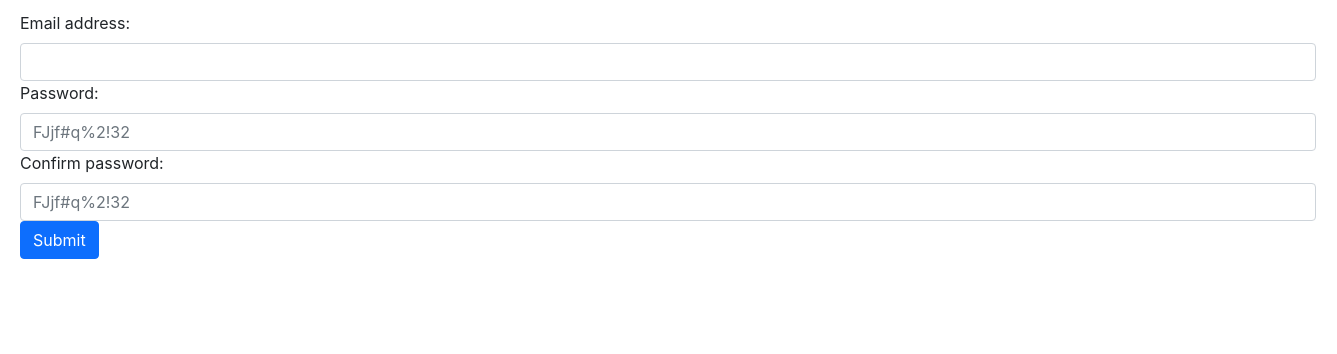
Test case: Error handling › Should show email error message on invalid email
The image size is (1337, 354).
In the field labelled "Email address:": x=668, y=62 20,43 -> 1316,81, type "azaz22155gmail.com"
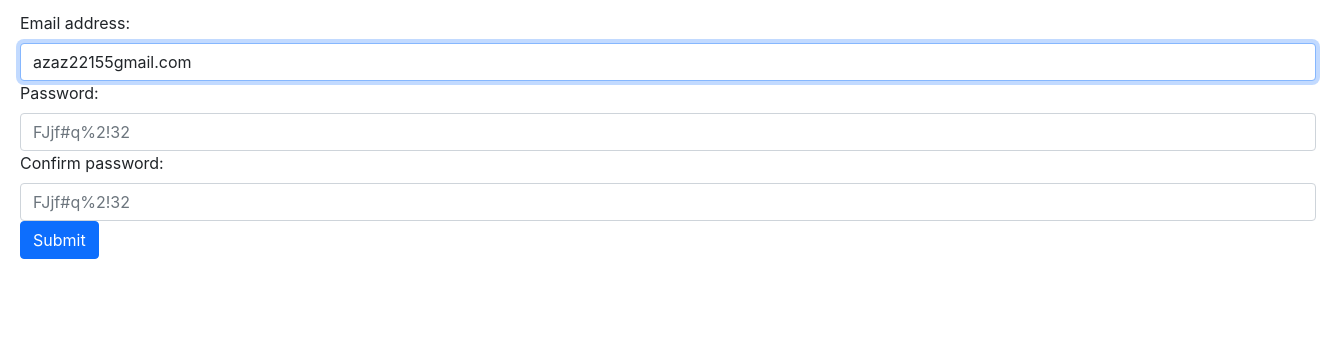
Click the button "Submit": x=59, y=240 20,221 -> 99,259
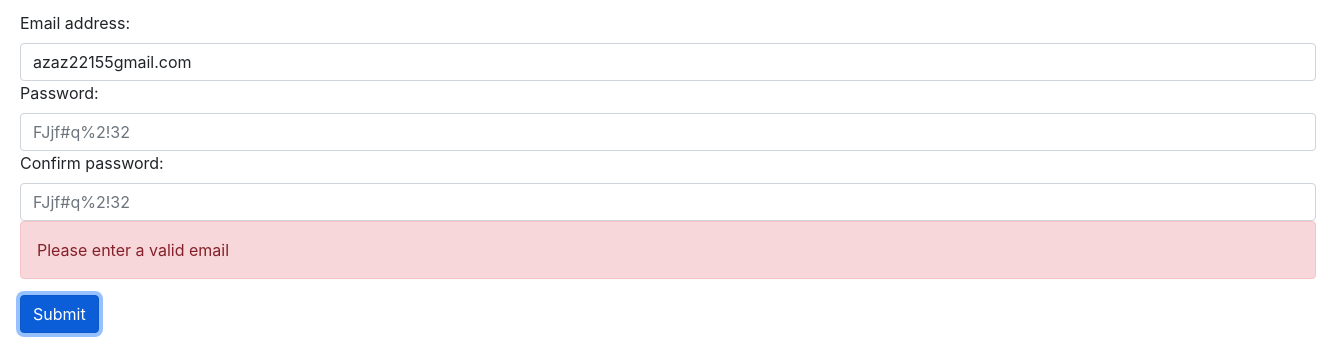
Expected: the text "Please enter a valid email" is shown, 20,221 -> 1316,279
